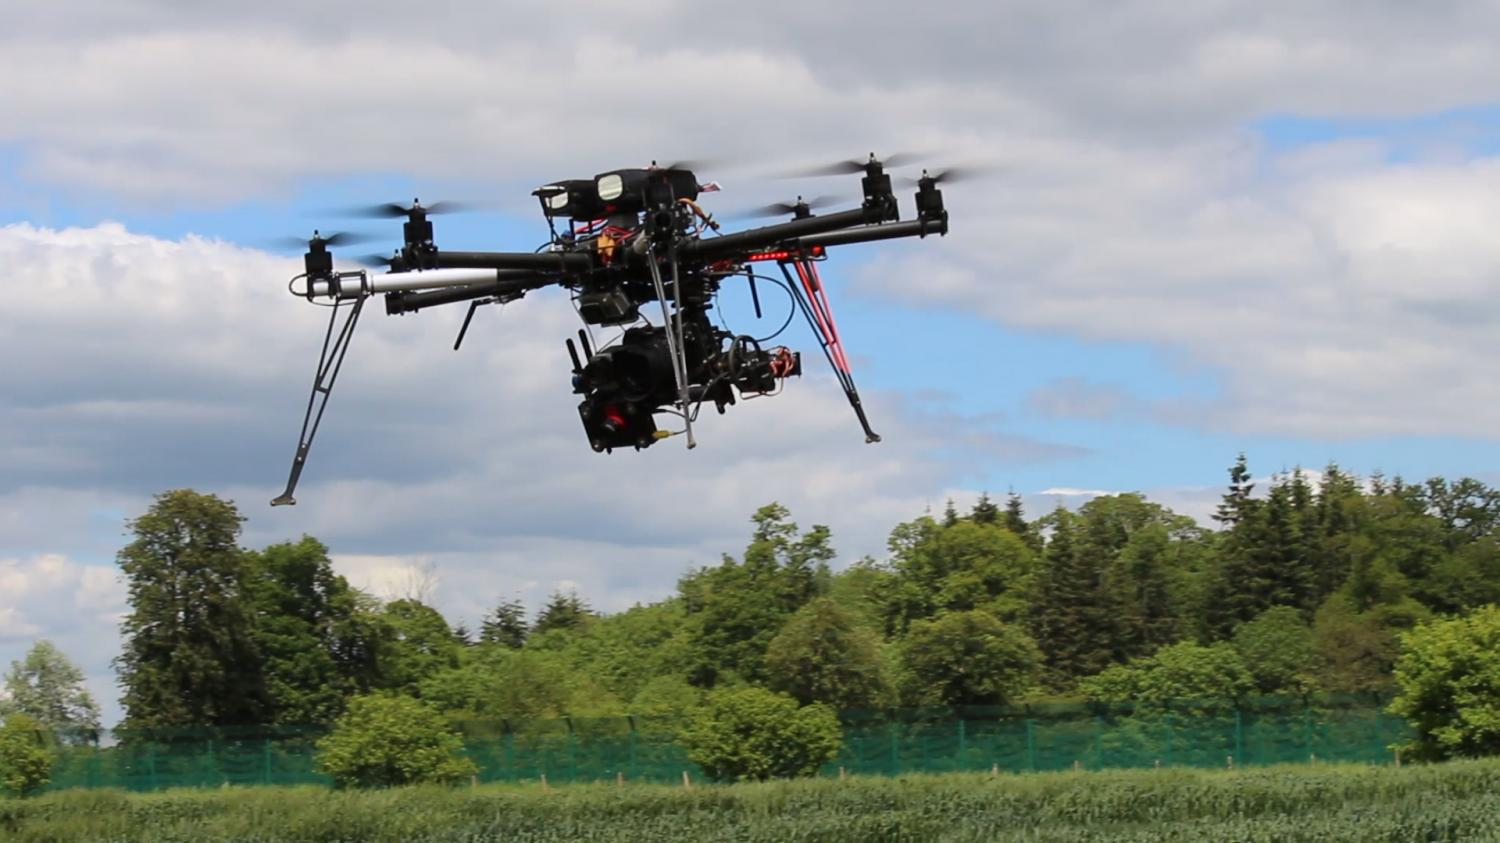drone: (260, 139, 1024, 510)
